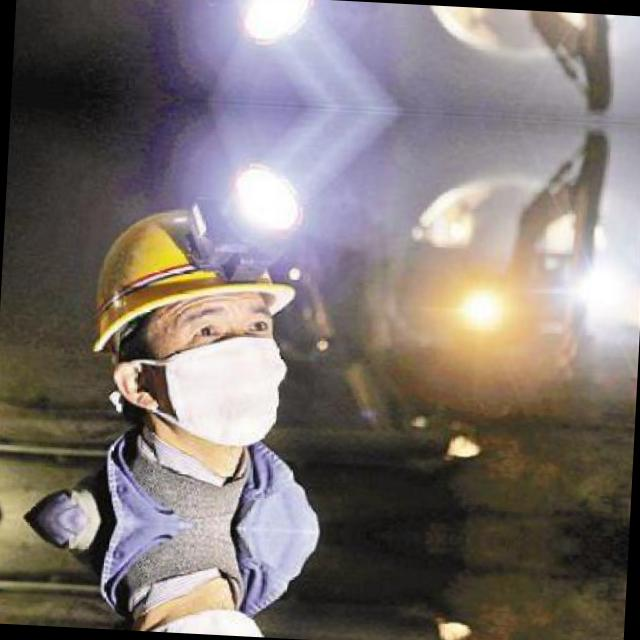helmet: (81, 188, 301, 450)
